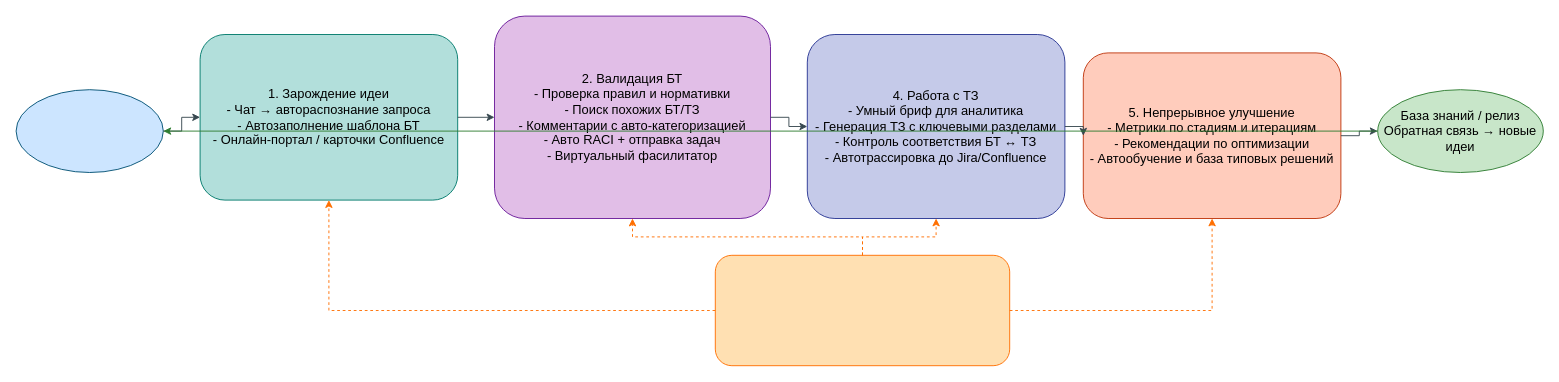
Image size: 1559x382. Some labels were removed from this diagram. Here are the shapes that lost their labels. From the top down, the box of each, then its label:
(15, 89, 163, 172): Инициатор / бизнес Проблема → запрос
(714, 254, 1010, 366): Агент / AI-платформа Единый чат, проверки, уведомления
